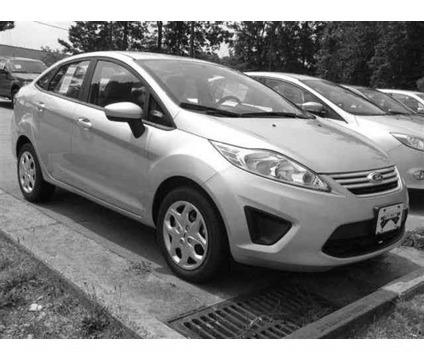car: (9, 48, 412, 285)
